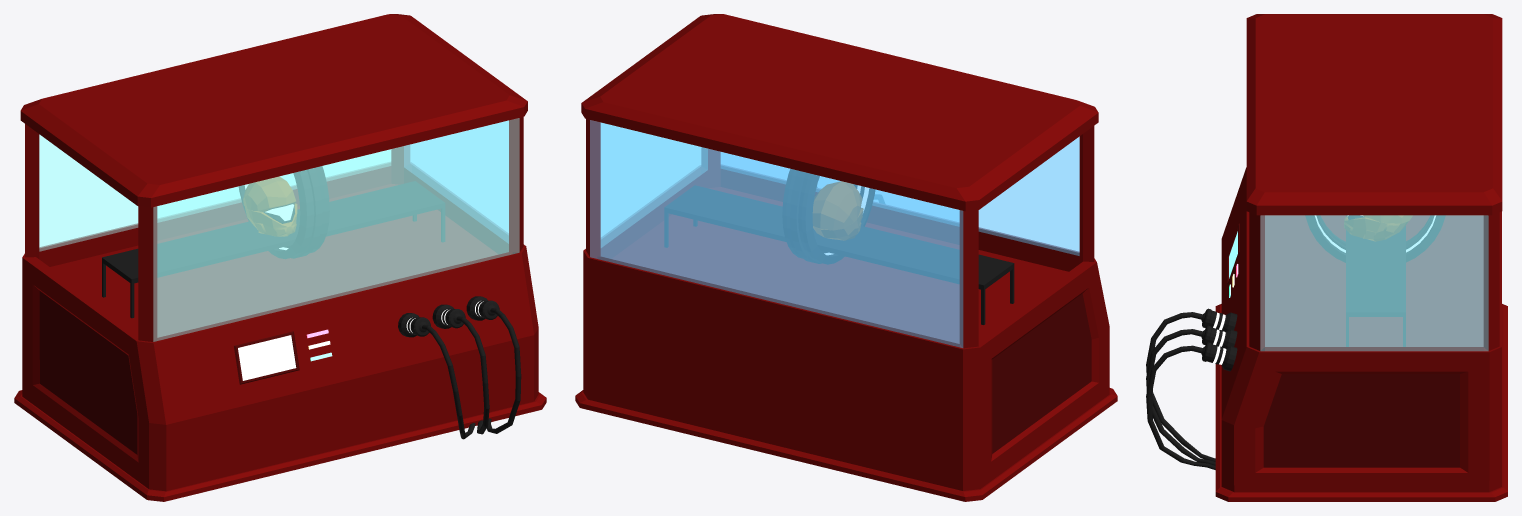
File: fabricator.fbx
3 renders of one model, left to right at view 1: azimuth 30°, elevation 25°; view 2: azimuth 150°, elevation 25°; view 3: azimuth 270°, elevation 25°, orthographic.
Visible parts, largest first — view 1: Cube; view 2: Cube; view 3: Cube.
Boxes of the visible parts, x1,y1,x2,y2 form: Cube: [14, 14, 546, 501]; Cube: [575, 14, 1117, 501]; Cube: [1146, 14, 1507, 501].
Size of the model in its own units: 318 by 227 by 248.
